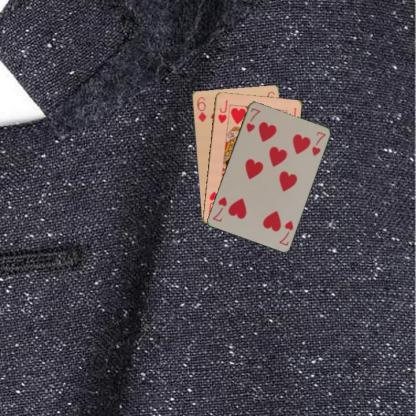6d: (194, 94, 208, 123)
7h: (244, 105, 262, 134), (276, 218, 294, 247)
Jh: (216, 98, 230, 124)
